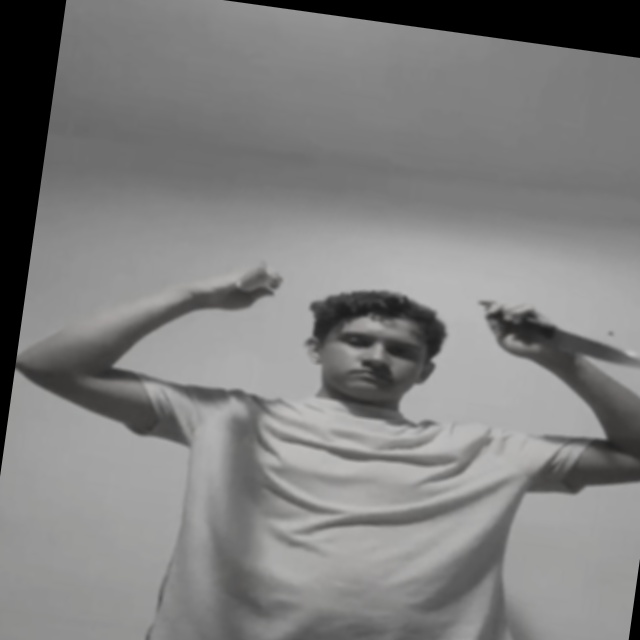Sharp-Object: (546, 325, 640, 368)
